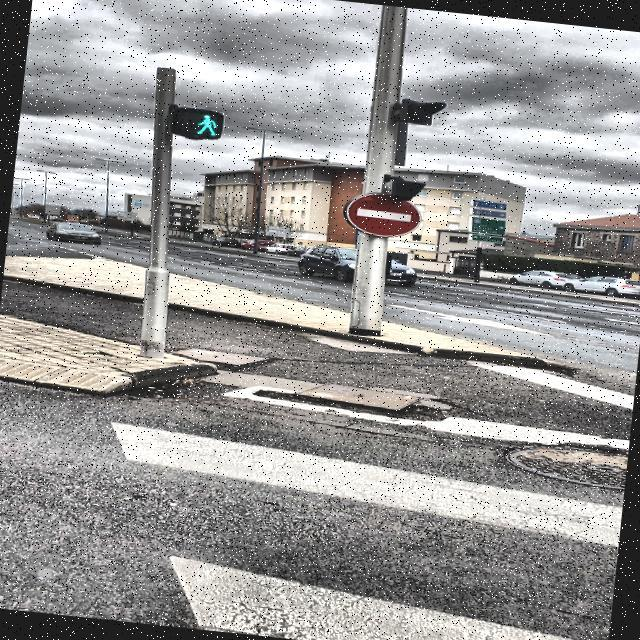green_light: (194, 112, 218, 136)
